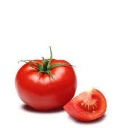tomato: (15, 57, 78, 108), (64, 86, 107, 122)
